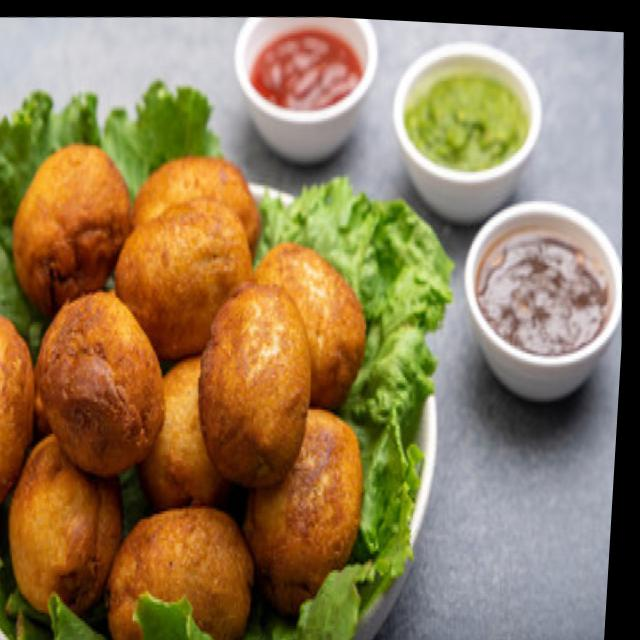BONDA: (0, 117, 375, 640)
GREEN CHUTNEY: (409, 72, 524, 166)
RED CHUTNEY: (250, 24, 360, 114)
